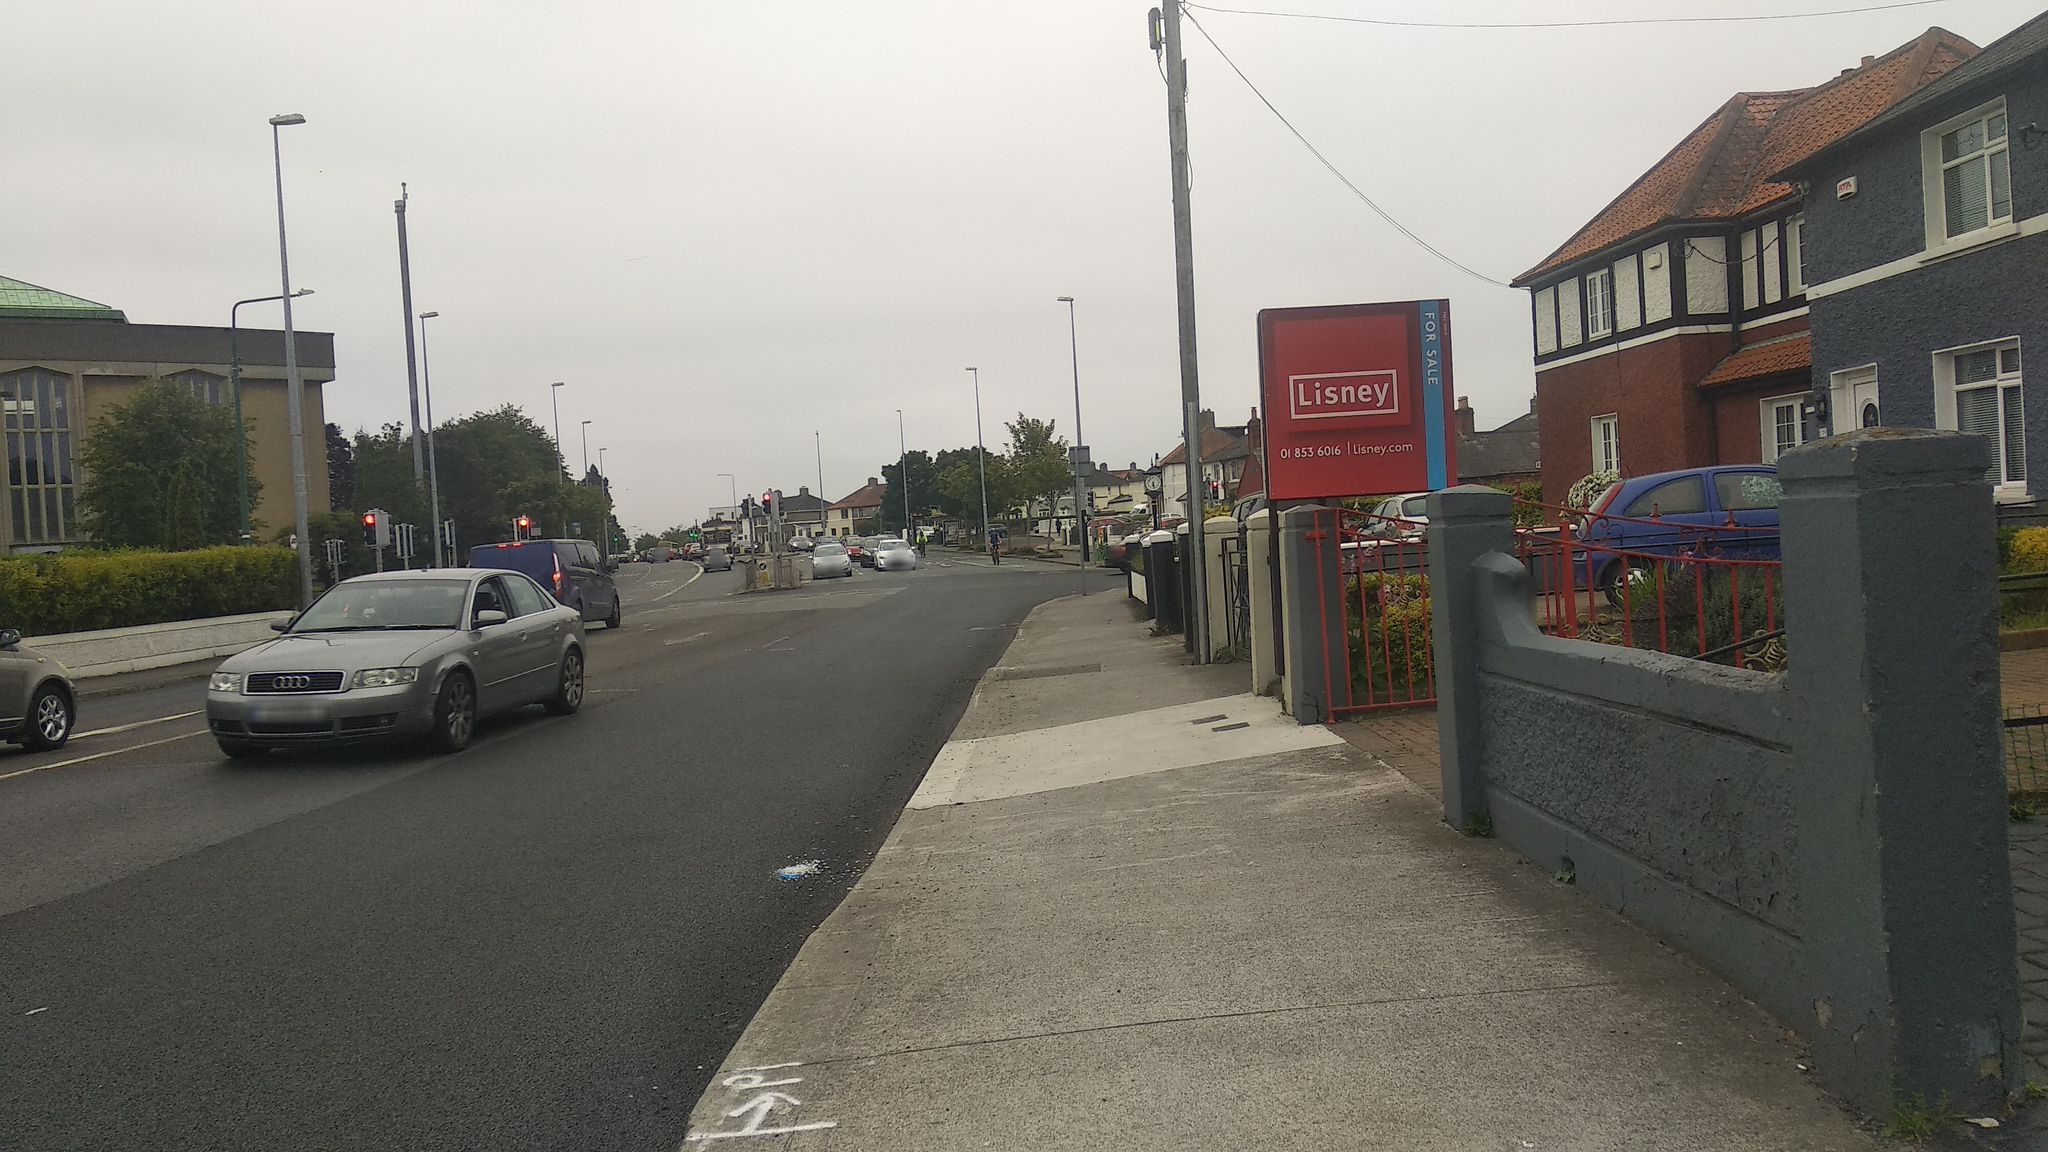property sign: (1243, 288, 1466, 506)
